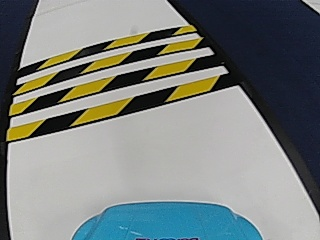bump: (25, 32, 189, 125)
